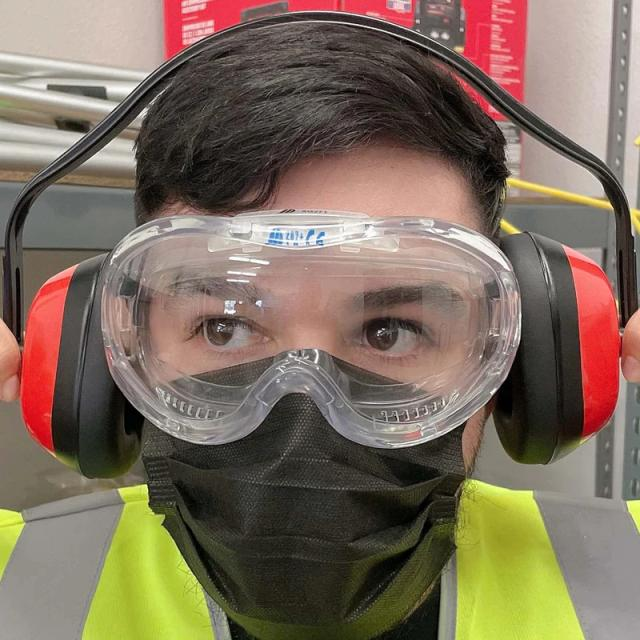Ear Muffs: (490, 217, 626, 474), (7, 246, 145, 492)
Reflective Vest: (0, 474, 640, 640)
Safety Glasses: (100, 203, 526, 455)
